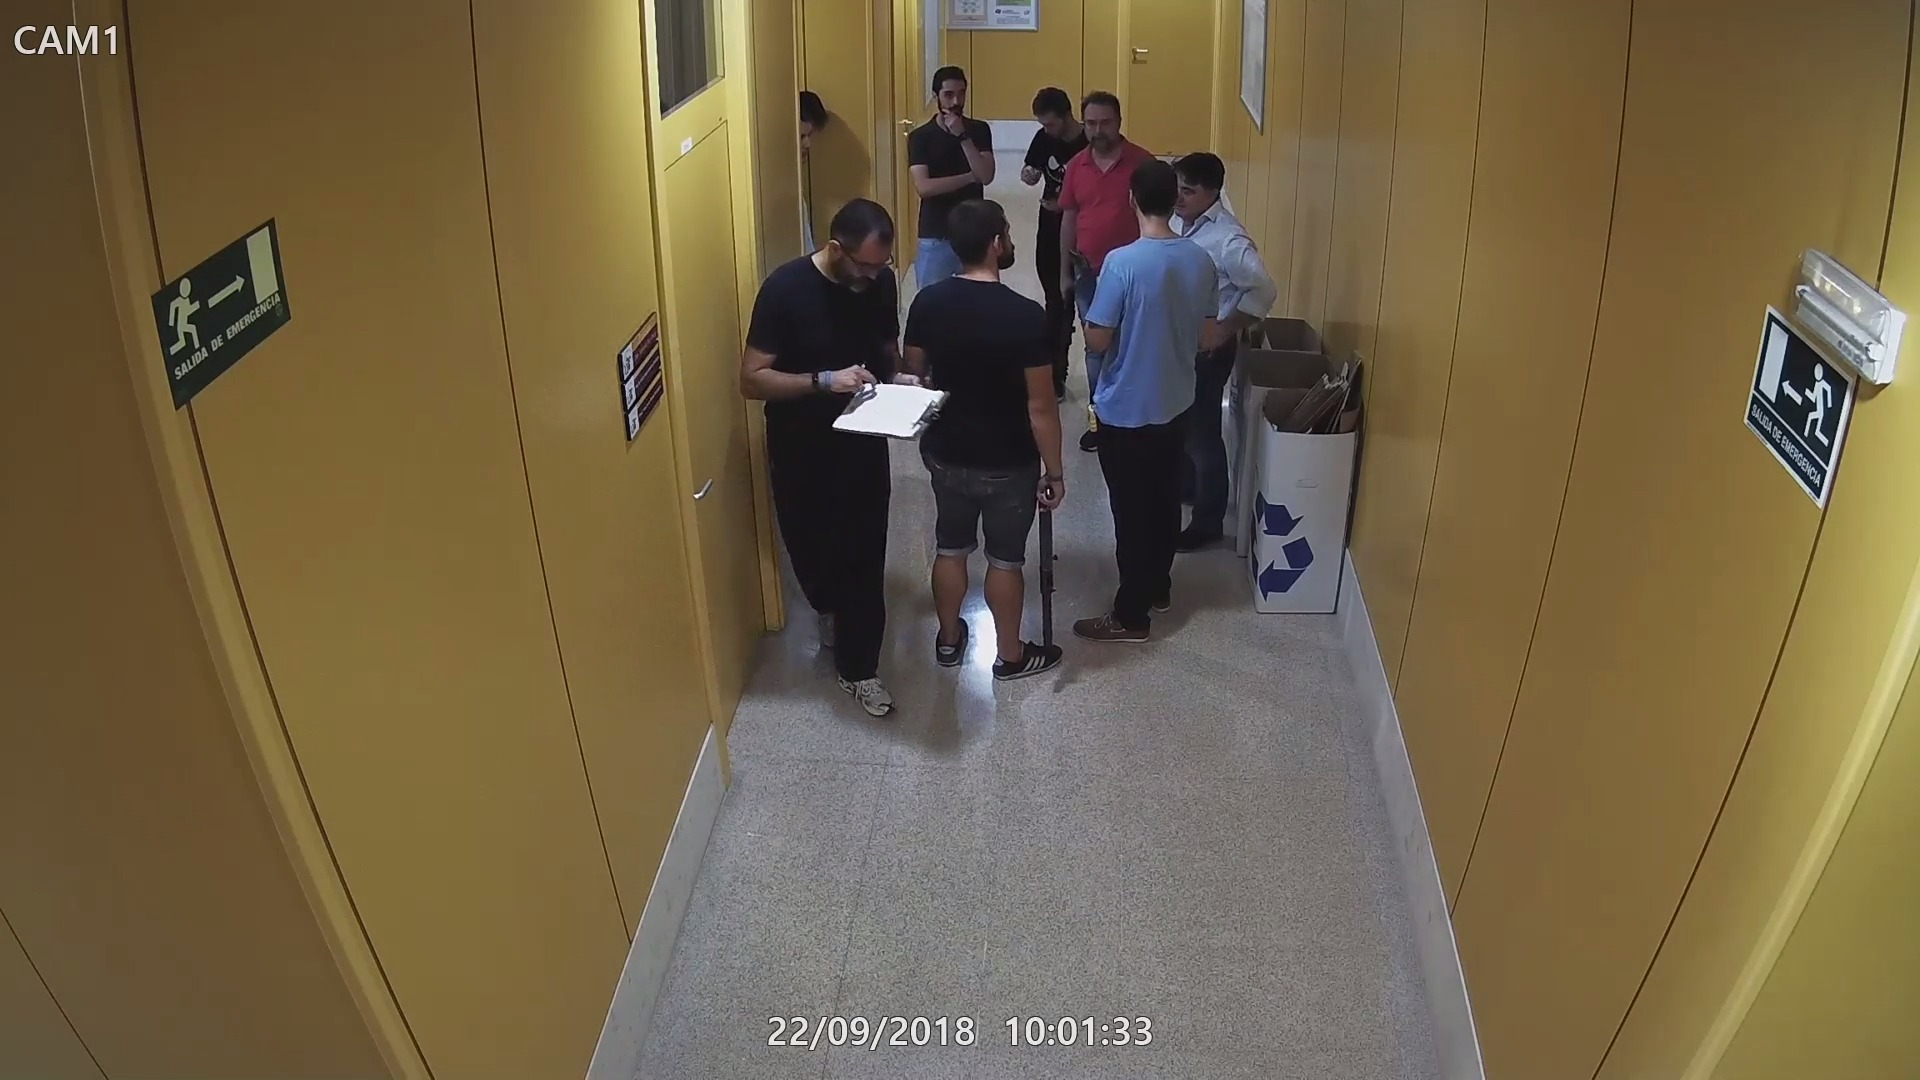Handgun: (1065, 247, 1092, 273)
Short_rifle: (1035, 473, 1069, 659), (1055, 280, 1083, 389)
